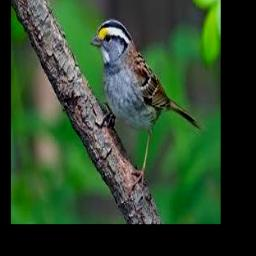Sparrow: (91, 19, 202, 190)
